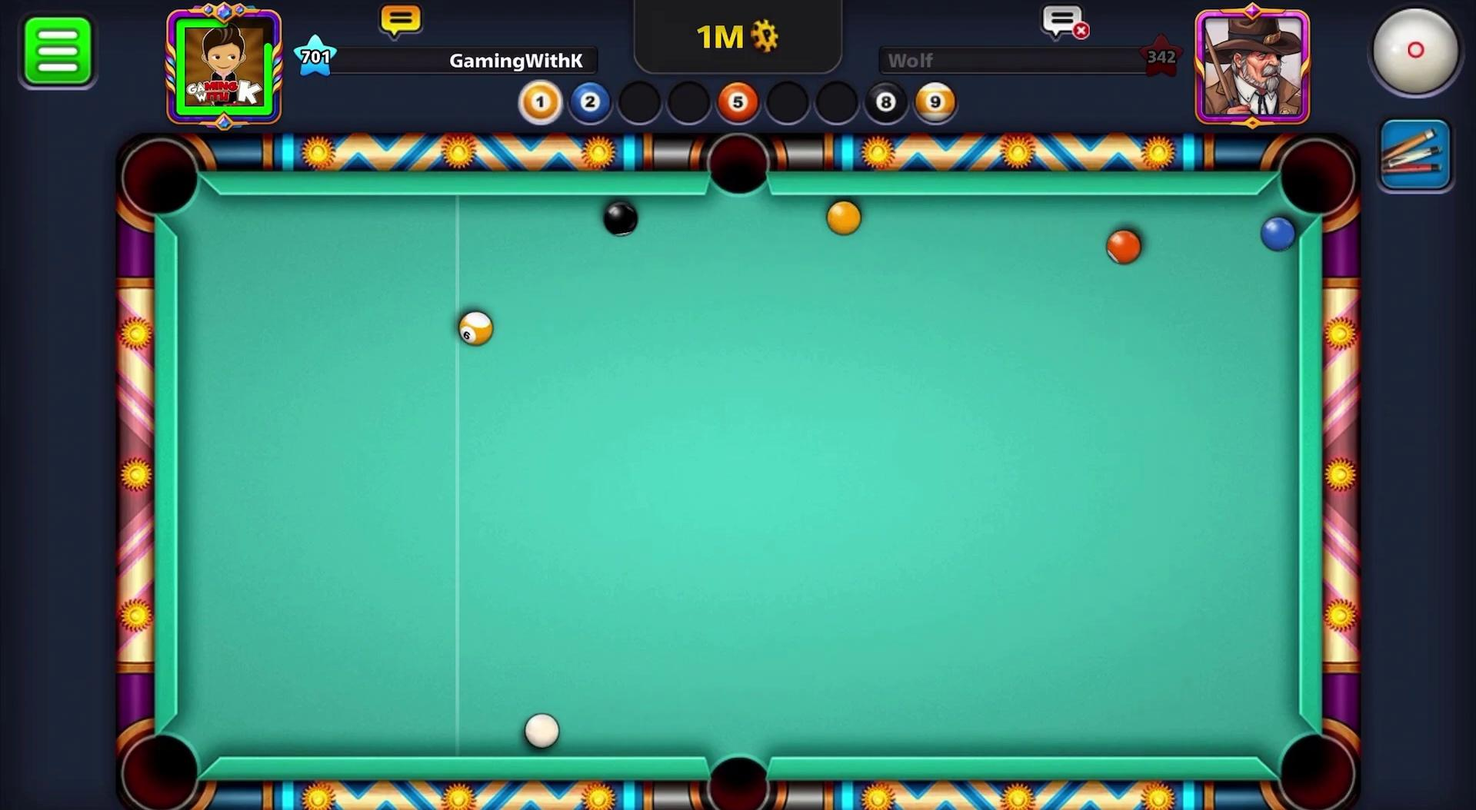Ball: (451, 306, 500, 353), (1101, 225, 1148, 272), (821, 197, 866, 239), (595, 197, 641, 237), (1259, 214, 1299, 256)
Hole: (1266, 131, 1364, 234), (109, 717, 213, 809), (1264, 719, 1364, 809), (114, 132, 205, 225), (685, 738, 788, 809), (700, 126, 780, 207)
Play_Area: (178, 194, 1305, 760)
Spin: (1341, 0, 1474, 114)
White: (514, 711, 568, 752)
